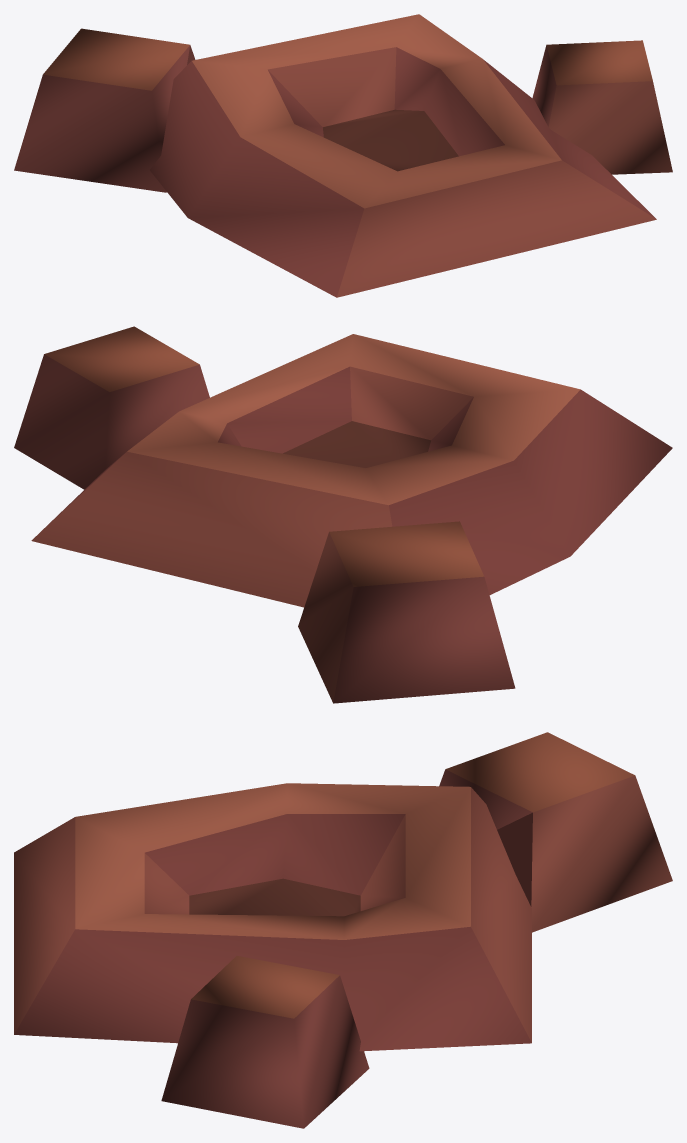
File: apoc_prop_46.glb
3 views of the same model, one above another, from view 1: azimuth 30°, elevation 25°; view 2: azimuth 150°, elevation 25°; view 3: azimuth 270°, elevation 25° (orthographic). The views are drawn at different scales.
Parts seen in each view (by area): view 1: prop_048; view 2: prop_048; view 3: prop_048.
Part boxes in pixels (bbox=[...]): prop_048: bbox=[14, 14, 672, 297]; prop_048: bbox=[14, 326, 672, 703]; prop_048: bbox=[14, 732, 672, 1128].
Size of the model in its own units: 0.2686 by 0.0472 by 0.243.
1 material, 1 textured.
